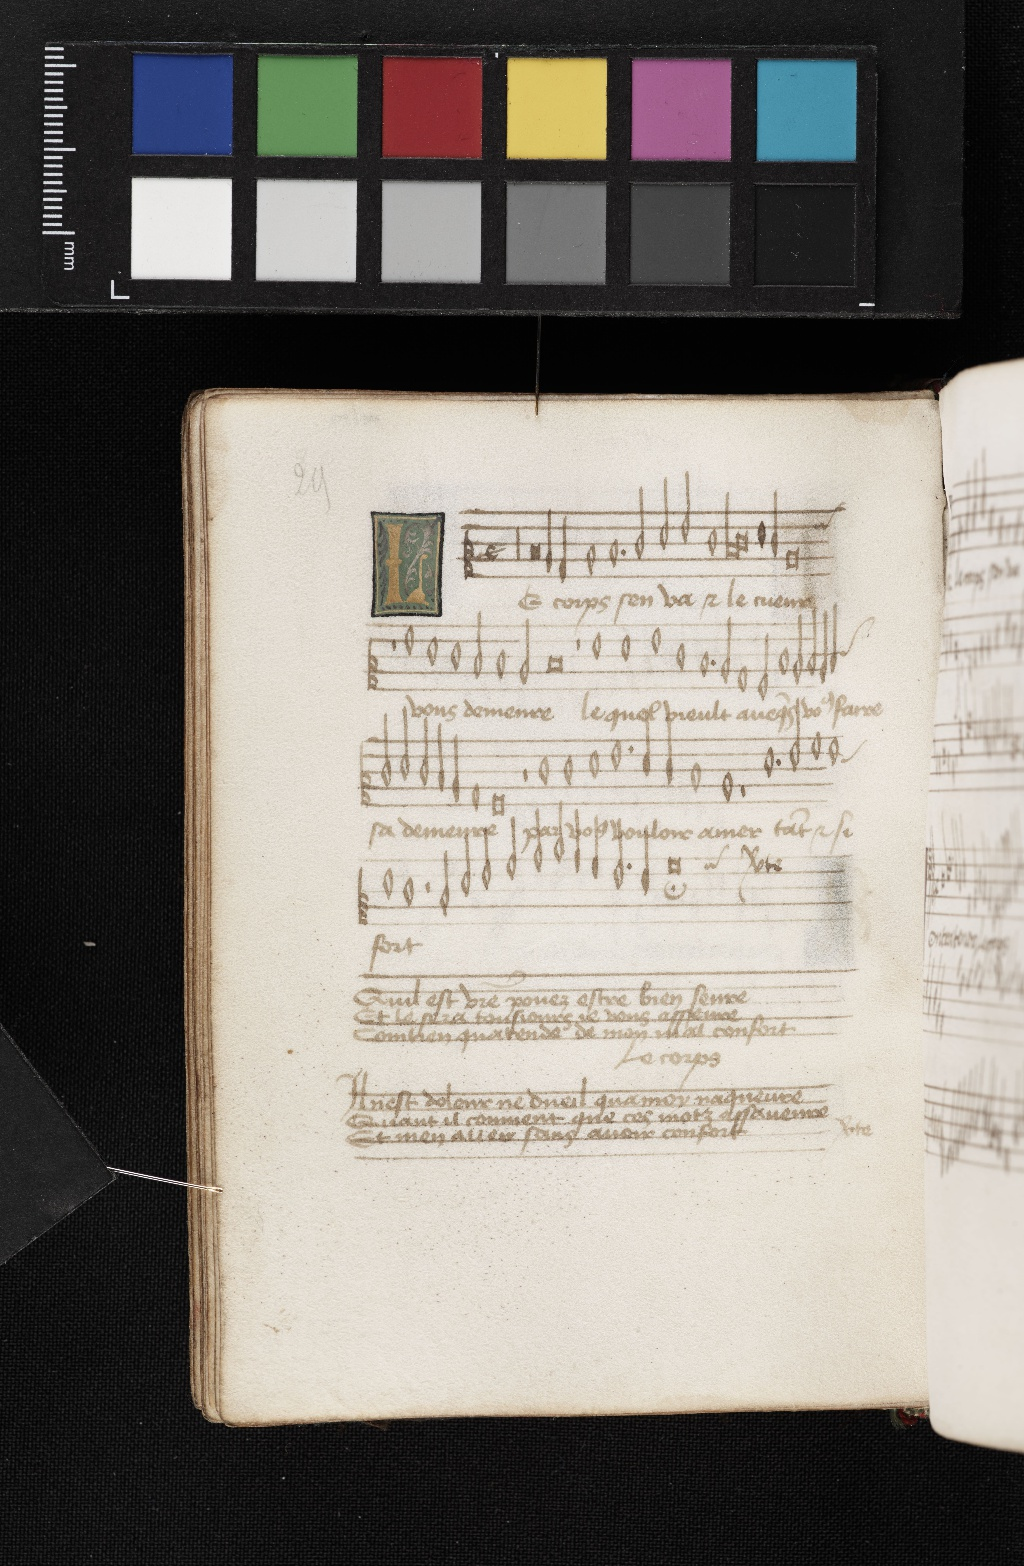breve_4: (663, 849, 686, 881)
c clef_9: (352, 869, 373, 933)
custos_4: (699, 837, 723, 884)
fermata: (655, 872, 693, 912)
minim rest: (421, 848, 435, 896)
minim_2: (550, 803, 567, 867)
minim_3: (528, 804, 549, 880)
minim_4: (501, 814, 520, 888)
minim_5: (610, 826, 627, 894), (478, 832, 493, 892)
minim_6: (459, 837, 474, 896)
minim_8: (437, 848, 453, 918)
point: (622, 856, 635, 877)
semibreve_6: (378, 859, 397, 905)
semibreve_7: (399, 868, 419, 915)
semiminim_3: (570, 814, 582, 877)
semiminim_4: (589, 830, 601, 885)
semiminim_6: (635, 829, 653, 904)
